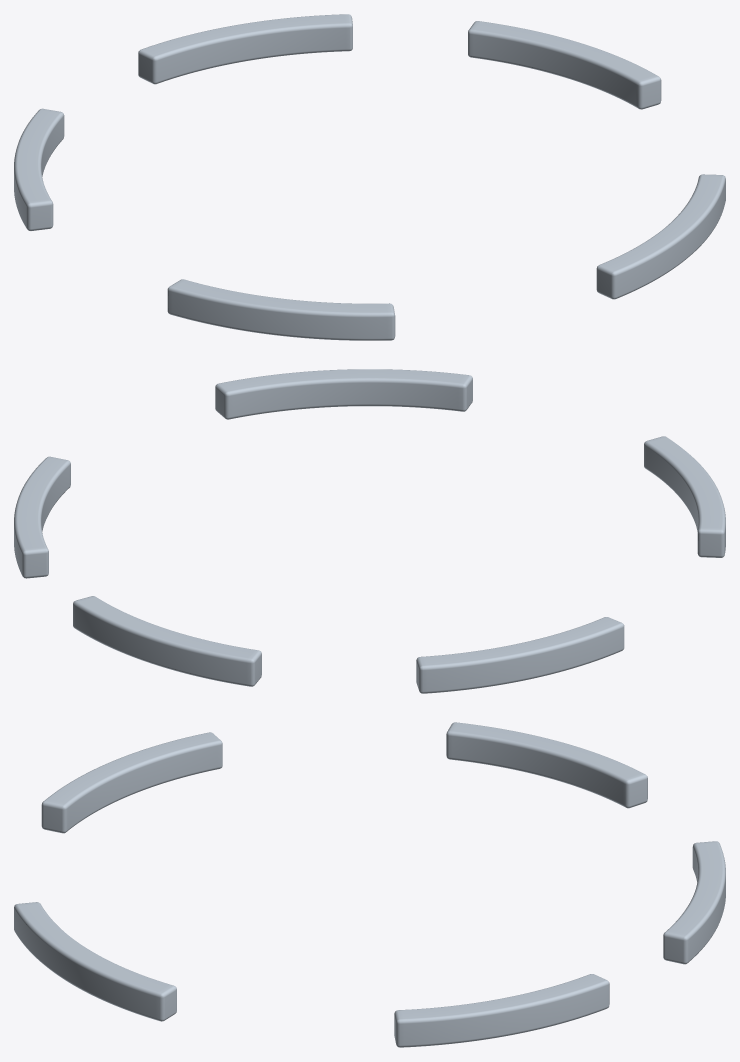
File: ev_core_r11b_bezel.glb
The picture shows the model from 3 angles, top to bottom: view 1: azimuth 30°, elevation 25°; view 2: azimuth 150°, elevation 25°; view 3: azimuth 270°, elevation 25°; orthographic projection.
Visible parts, largest first — view 1: FrontBezel_3, FrontBezel_1, FrontBezel_0, FrontBezel_4, FrontBezel_2; view 2: FrontBezel_4, FrontBezel_2, FrontBezel_1, FrontBezel_3, FrontBezel_0; view 3: FrontBezel_0, FrontBezel_2, FrontBezel_3, FrontBezel_4, FrontBezel_1.
Part boxes in pixels (<box>): FrontBezel_3: <box>167,279,395,340</box>; FrontBezel_1: <box>138,14,352,84</box>; FrontBezel_0: <box>468,21,661,109</box>; FrontBezel_4: <box>596,174,725,299</box>; FrontBezel_2: <box>14,108,64,230</box>; FrontBezel_4: <box>215,369,472,419</box>; FrontBezel_2: <box>416,617,624,693</box>; FrontBezel_1: <box>73,596,261,686</box>; FrontBezel_3: <box>644,436,725,557</box>; FrontBezel_0: <box>14,456,70,578</box>; FrontBezel_0: <box>394,974,609,1047</box>; FrontBezel_2: <box>446,722,647,808</box>; FrontBezel_3: <box>41,732,222,833</box>; FrontBezel_4: <box>14,902,176,1021</box>; FrontBezel_1: <box>663,841,725,964</box>.
Size of the model in its own units: 4.08 by 0.18 by 4.1.
